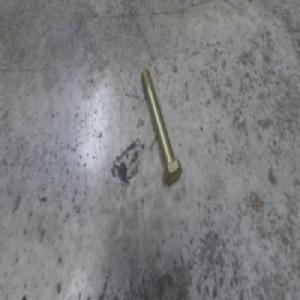Bolt: (139, 65, 181, 186)
